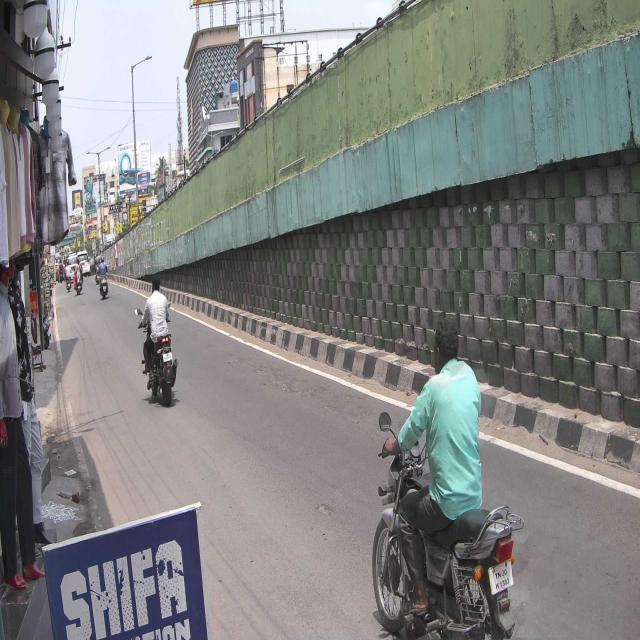single_rider: (370, 312, 525, 640), (136, 274, 178, 408)
